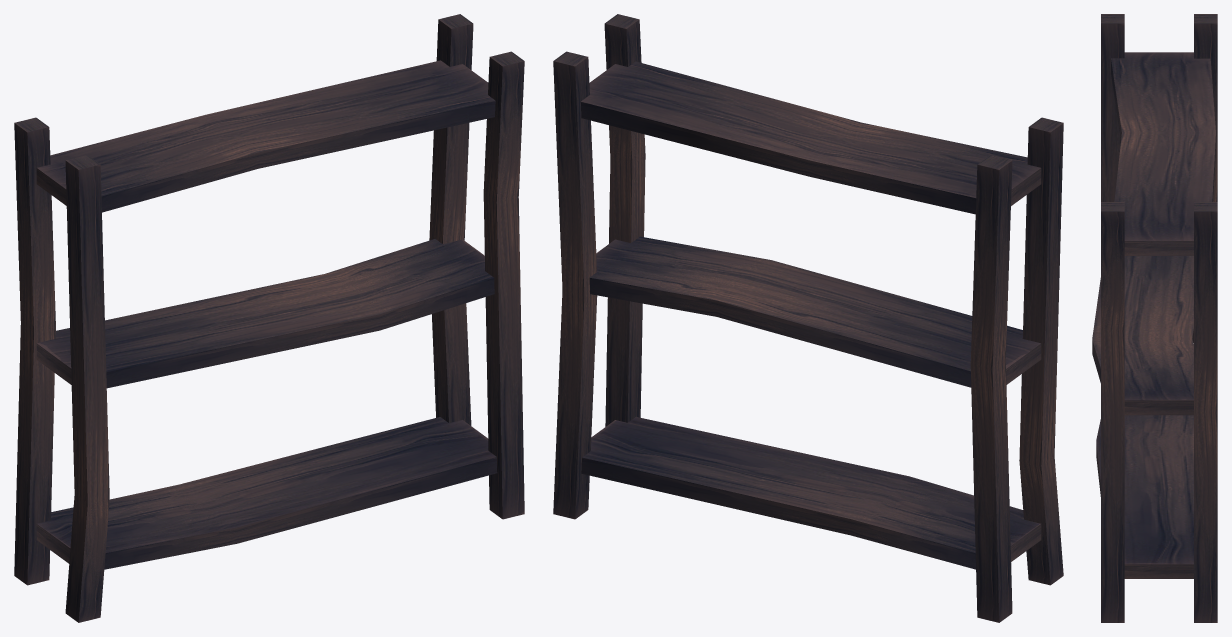
File: Shelf_B.fbx
The picture shows the model from 3 angles, left to right: view 1: azimuth 30°, elevation 25°; view 2: azimuth 150°, elevation 25°; view 3: azimuth 270°, elevation 25°; orthographic projection. The views are drawn at different scales.
Visible parts, largest first — view 1: Shelf_B; view 2: Shelf_B; view 3: Shelf_B.
Boxes of the visible parts, x1=… form: Shelf_B: x1=14, y1=14, x2=524, y2=622; Shelf_B: x1=553, y1=14, x2=1063, y2=622; Shelf_B: x1=1092, y1=14, x2=1217, y2=622.
Bounding box in the file's own units: 0.6266 × 0.608 × 0.1682.
